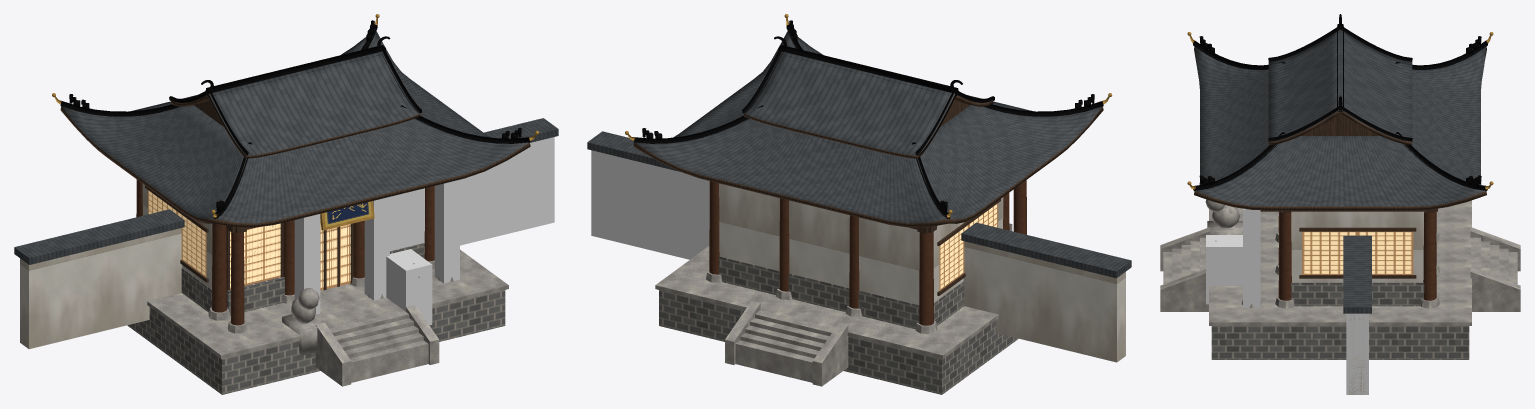
File: manor_gate.glb
The picture shows the model from 3 angles, left to right: view 1: azimuth 30°, elevation 25°; view 2: azimuth 150°, elevation 25°; view 3: azimuth 270°, elevation 25°; orthographic projection. The views are drawn at different scales.
Visible parts, largest first — view 1: ManorGateLowerRoof, ManorGateGable, WingWalls, ManorGatePodiumCap, ManorGatePodiumBase, Wing-convcolonly.001, ManorGateLattice, ManorGateColumns, ManorGateStairsfront, WingCoping, Lion-convcolonly.001, ManorGateVCol-convcolonly.003 (+13 smaller); view 2: ManorGateLowerRoof, ManorGateWalls, ManorGateGable, WingWalls, Wing-convcolonly.001, ManorGatePodiumBase, ManorGatePodiumCap, ManorGateDado, ManorGateColumns, WingCoping, ManorGateStairsback, ManorGateCheeksback (+5 smaller); view 3: ManorGateLowerRoof, ManorGateGable, ManorGatePodiumCap, ManorGatePodiumBase, ManorGateWalls, ManorGateLattice, ManorGateDado, ManorGateColumns, ManorGateCheeksback, WingCoping, ManorGateCheeksfront, Lion-convcolonly.001 (+13 smaller).
Boxes of the visible parts, x1,y1,x2,y2 form: ManorGateLowerRoof: (60, 29, 530, 227); ManorGateGable: (171, 51, 420, 158); WingWalls: (20, 228, 182, 349); ManorGatePodiumCap: (147, 249, 508, 359); ManorGatePodiumBase: (127, 290, 505, 394); Wing-convcolonly.001: (460, 137, 554, 245); ManorGateLattice: (148, 190, 350, 290); ManorGateColumns: (136, 179, 434, 325); ManorGateStairsfront: (329, 311, 428, 382); WingCoping: (14, 118, 558, 264); Lion-convcolonly.001: (386, 249, 432, 325); ManorGateVCol-convcolonly.003: (434, 179, 459, 283); ManorGateLowerRoof: (633, 31, 1103, 227); ManorGateWalls: (719, 183, 1003, 304); ManorGateGable: (744, 51, 993, 158); WingWalls: (963, 241, 1125, 362); Wing-convcolonly.001: (591, 150, 709, 259); ManorGatePodiumBase: (659, 290, 1018, 394); ManorGatePodiumCap: (655, 246, 998, 358); ManorGateDado: (719, 256, 964, 328); ManorGateColumns: (709, 180, 1026, 325); WingCoping: (587, 131, 1131, 278); ManorGateStairsback: (735, 310, 834, 382); ManorGateCheeksback: (725, 301, 848, 386); ManorGateLowerRoof: (1194, 46, 1486, 210); ManorGateGable: (1268, 29, 1412, 144); ManorGatePodiumCap: (1209, 200, 1471, 325); ManorGatePodiumBase: (1211, 326, 1469, 359); ManorGateWalls: (1291, 211, 1423, 282); ManorGateLattice: (1302, 231, 1413, 274); ManorGateDado: (1291, 282, 1424, 306); ManorGateColumns: (1278, 211, 1436, 300); ManorGateCheeksback: (1470, 227, 1520, 311); WingCoping: (1343, 235, 1371, 313); ManorGateCheeksfront: (1160, 227, 1210, 311); Lion-convcolonly.001: (1206, 235, 1242, 304).
Size of what is drawn, in the model's own units: 20.2 by 9.2 by 12.58.
11 materials, 11 textured.
